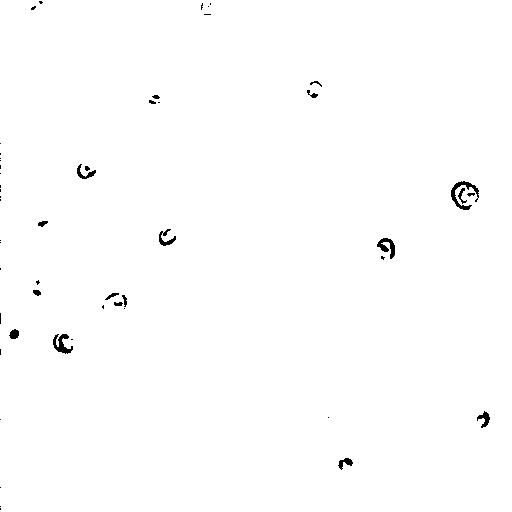micro-algae: (217, 206, 279, 271), (317, 0, 381, 37), (26, 265, 65, 305), (88, 269, 123, 304), (0, 314, 29, 353), (28, 203, 63, 235), (171, 352, 203, 384), (449, 181, 479, 210), (16, 0, 52, 21), (101, 289, 127, 317), (373, 236, 397, 261), (52, 331, 74, 356), (76, 158, 97, 179), (157, 225, 177, 247), (471, 407, 491, 428), (334, 453, 354, 473), (303, 80, 323, 99), (198, 1, 221, 15)
